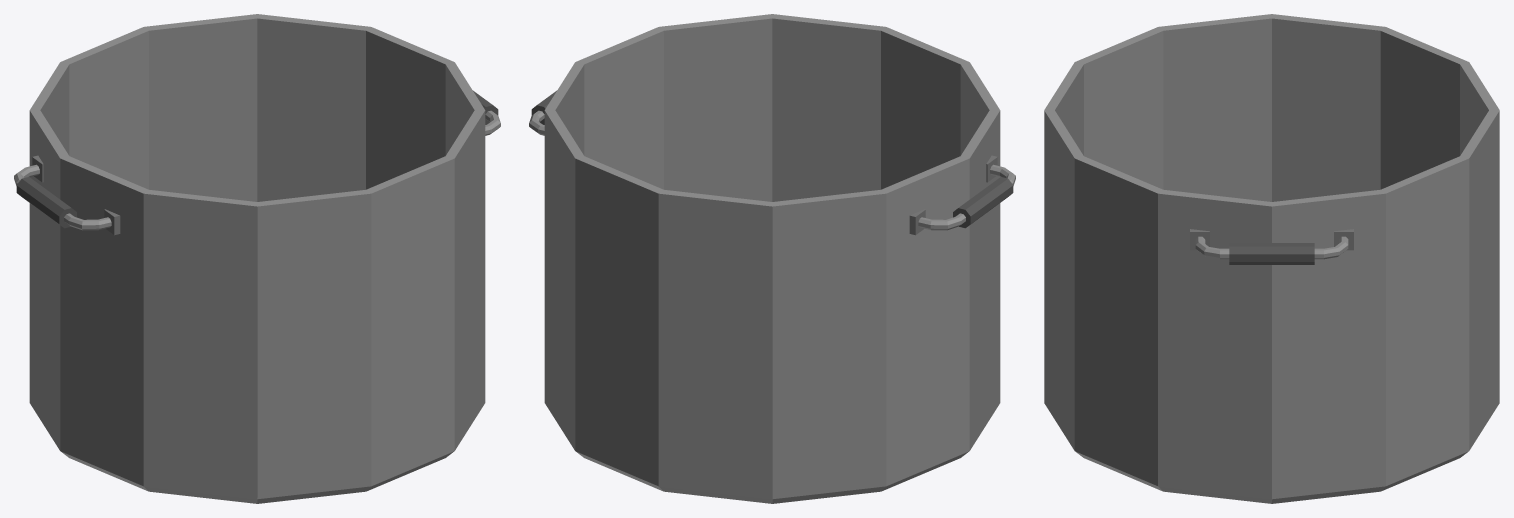
File: Pan_01.fbx
3 views of the same model, side by side, from view 1: azimuth 30°, elevation 25°; view 2: azimuth 150°, elevation 25°; view 3: azimuth 270°, elevation 25° (orthographic).
Visible parts, largest first — view 1: Pan_01; view 2: Pan_01; view 3: Pan_01.
Boxes of the visible parts, bbox=[...] form: Pan_01: bbox=[14, 14, 500, 503]; Pan_01: bbox=[529, 14, 1015, 503]; Pan_01: bbox=[1044, 14, 1499, 503].
Size of the model in its own units: 31.07 by 20.41 by 27.92.
